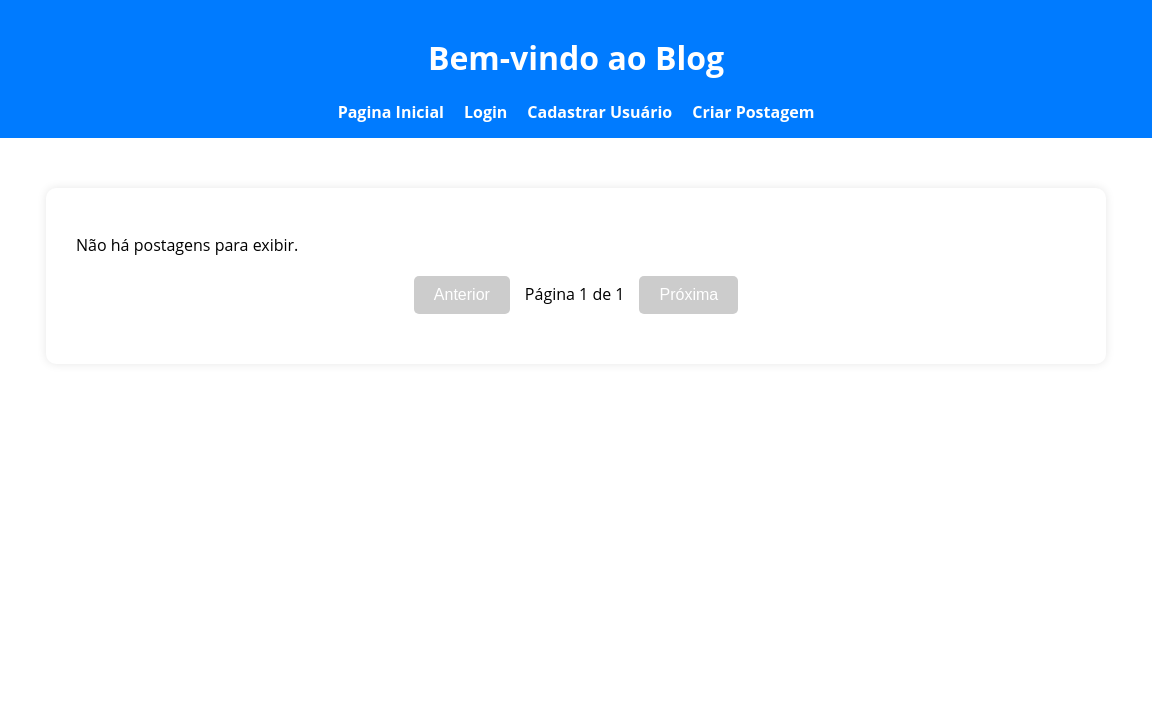
Test case: Testes de cadastro de usuário › Não deve deixar cadastrar com nome em branco
Click the link "Cadastrar Usuário" at (600,112), box [527, 101, 672, 123]
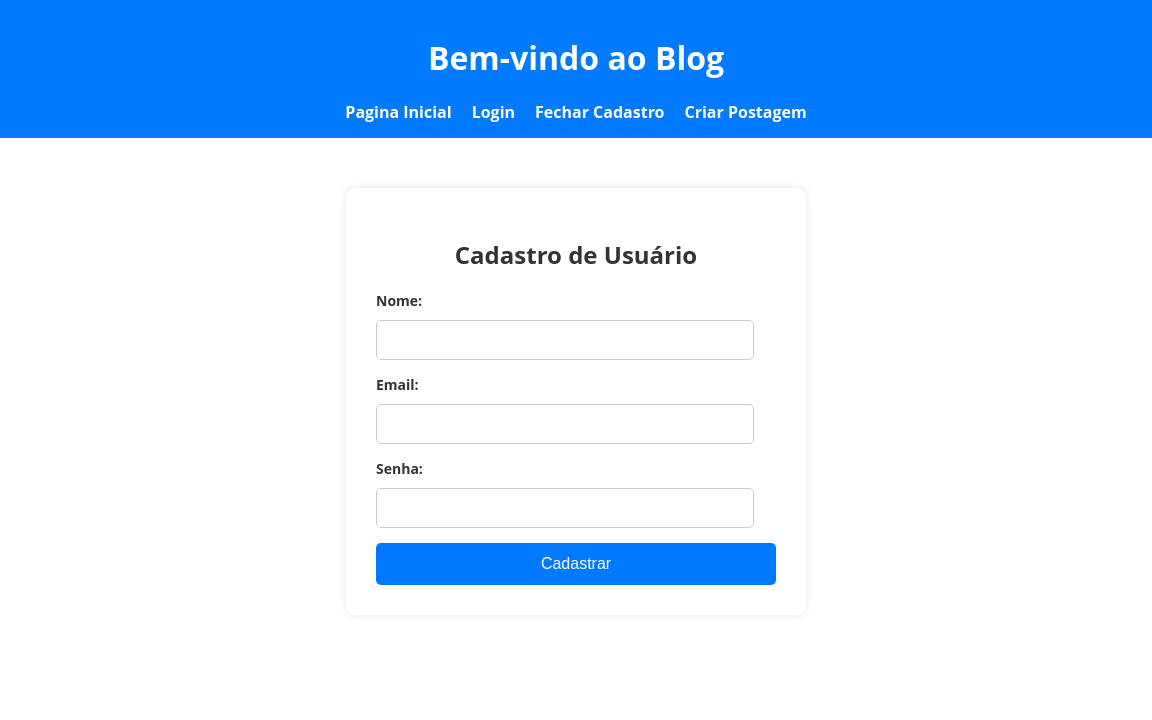
Type "carlos@email.com" into the field below "Email:" at (565,424), box [376, 404, 754, 444]
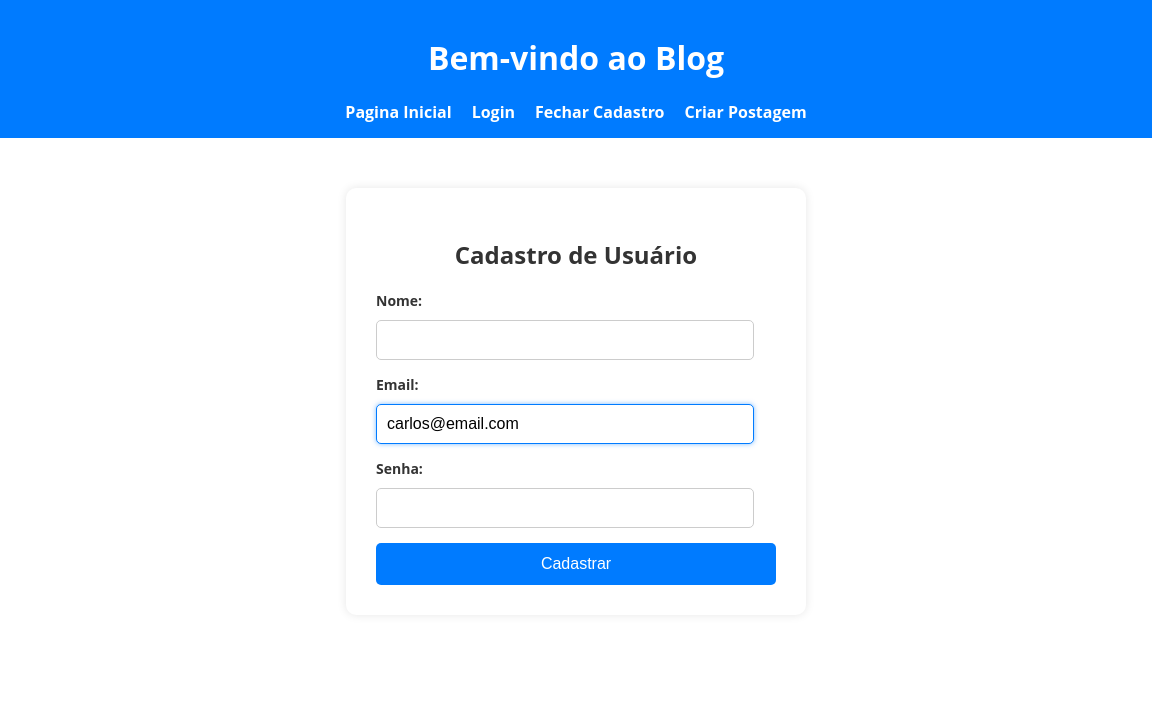
Type "1@2B3c4d5e" into the password field at (565,508), box [376, 488, 754, 528]
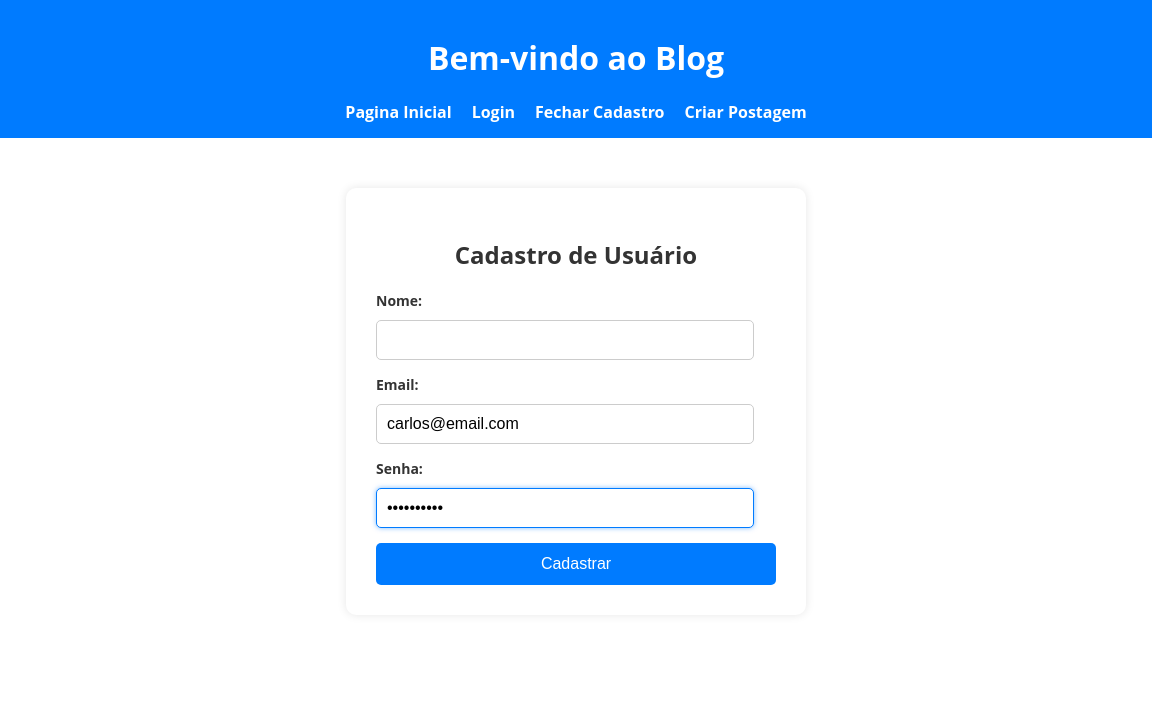
Click the button "Cadastrar" at (576,564), box [376, 543, 776, 585]
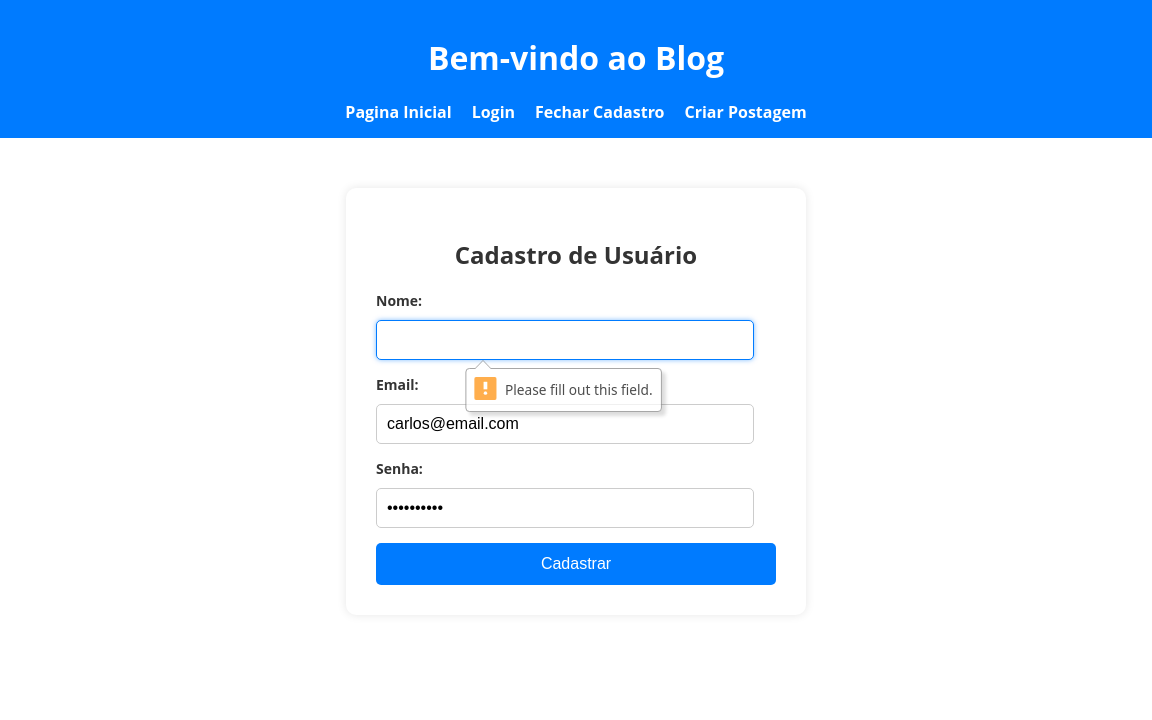
Submit the form, box [376, 291, 776, 585]
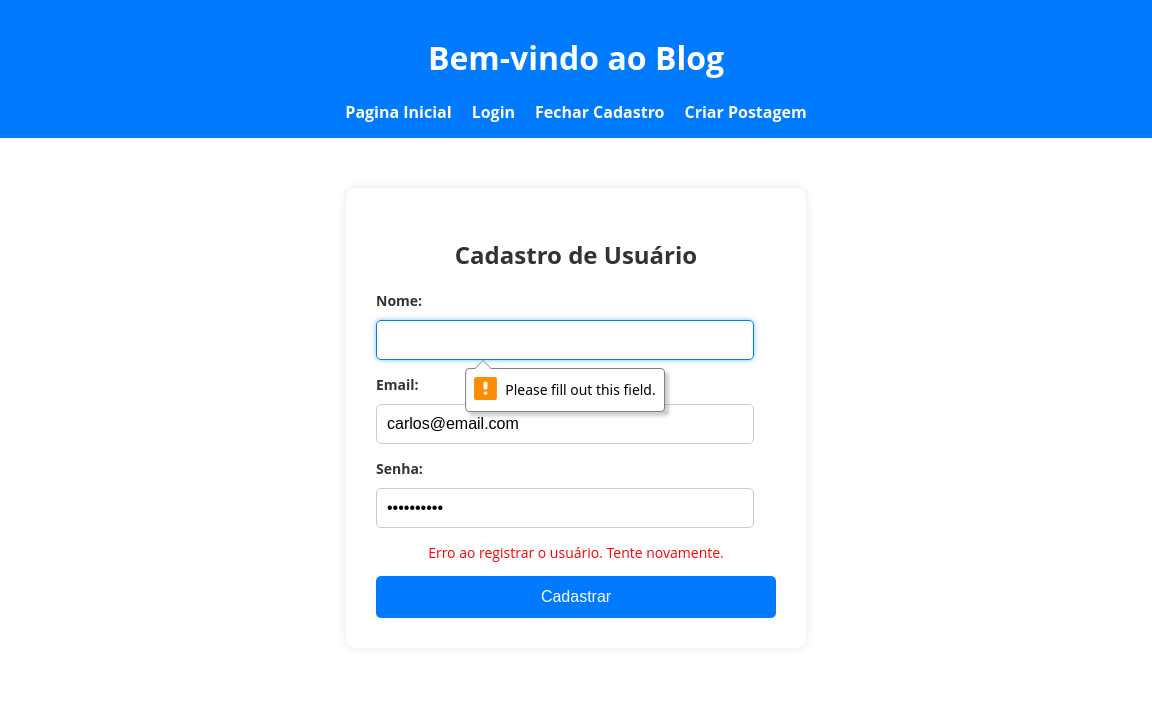
Expected: the text "Erro ao registrar o usuário. Tente novamente." is shown, [428, 543, 724, 562]
